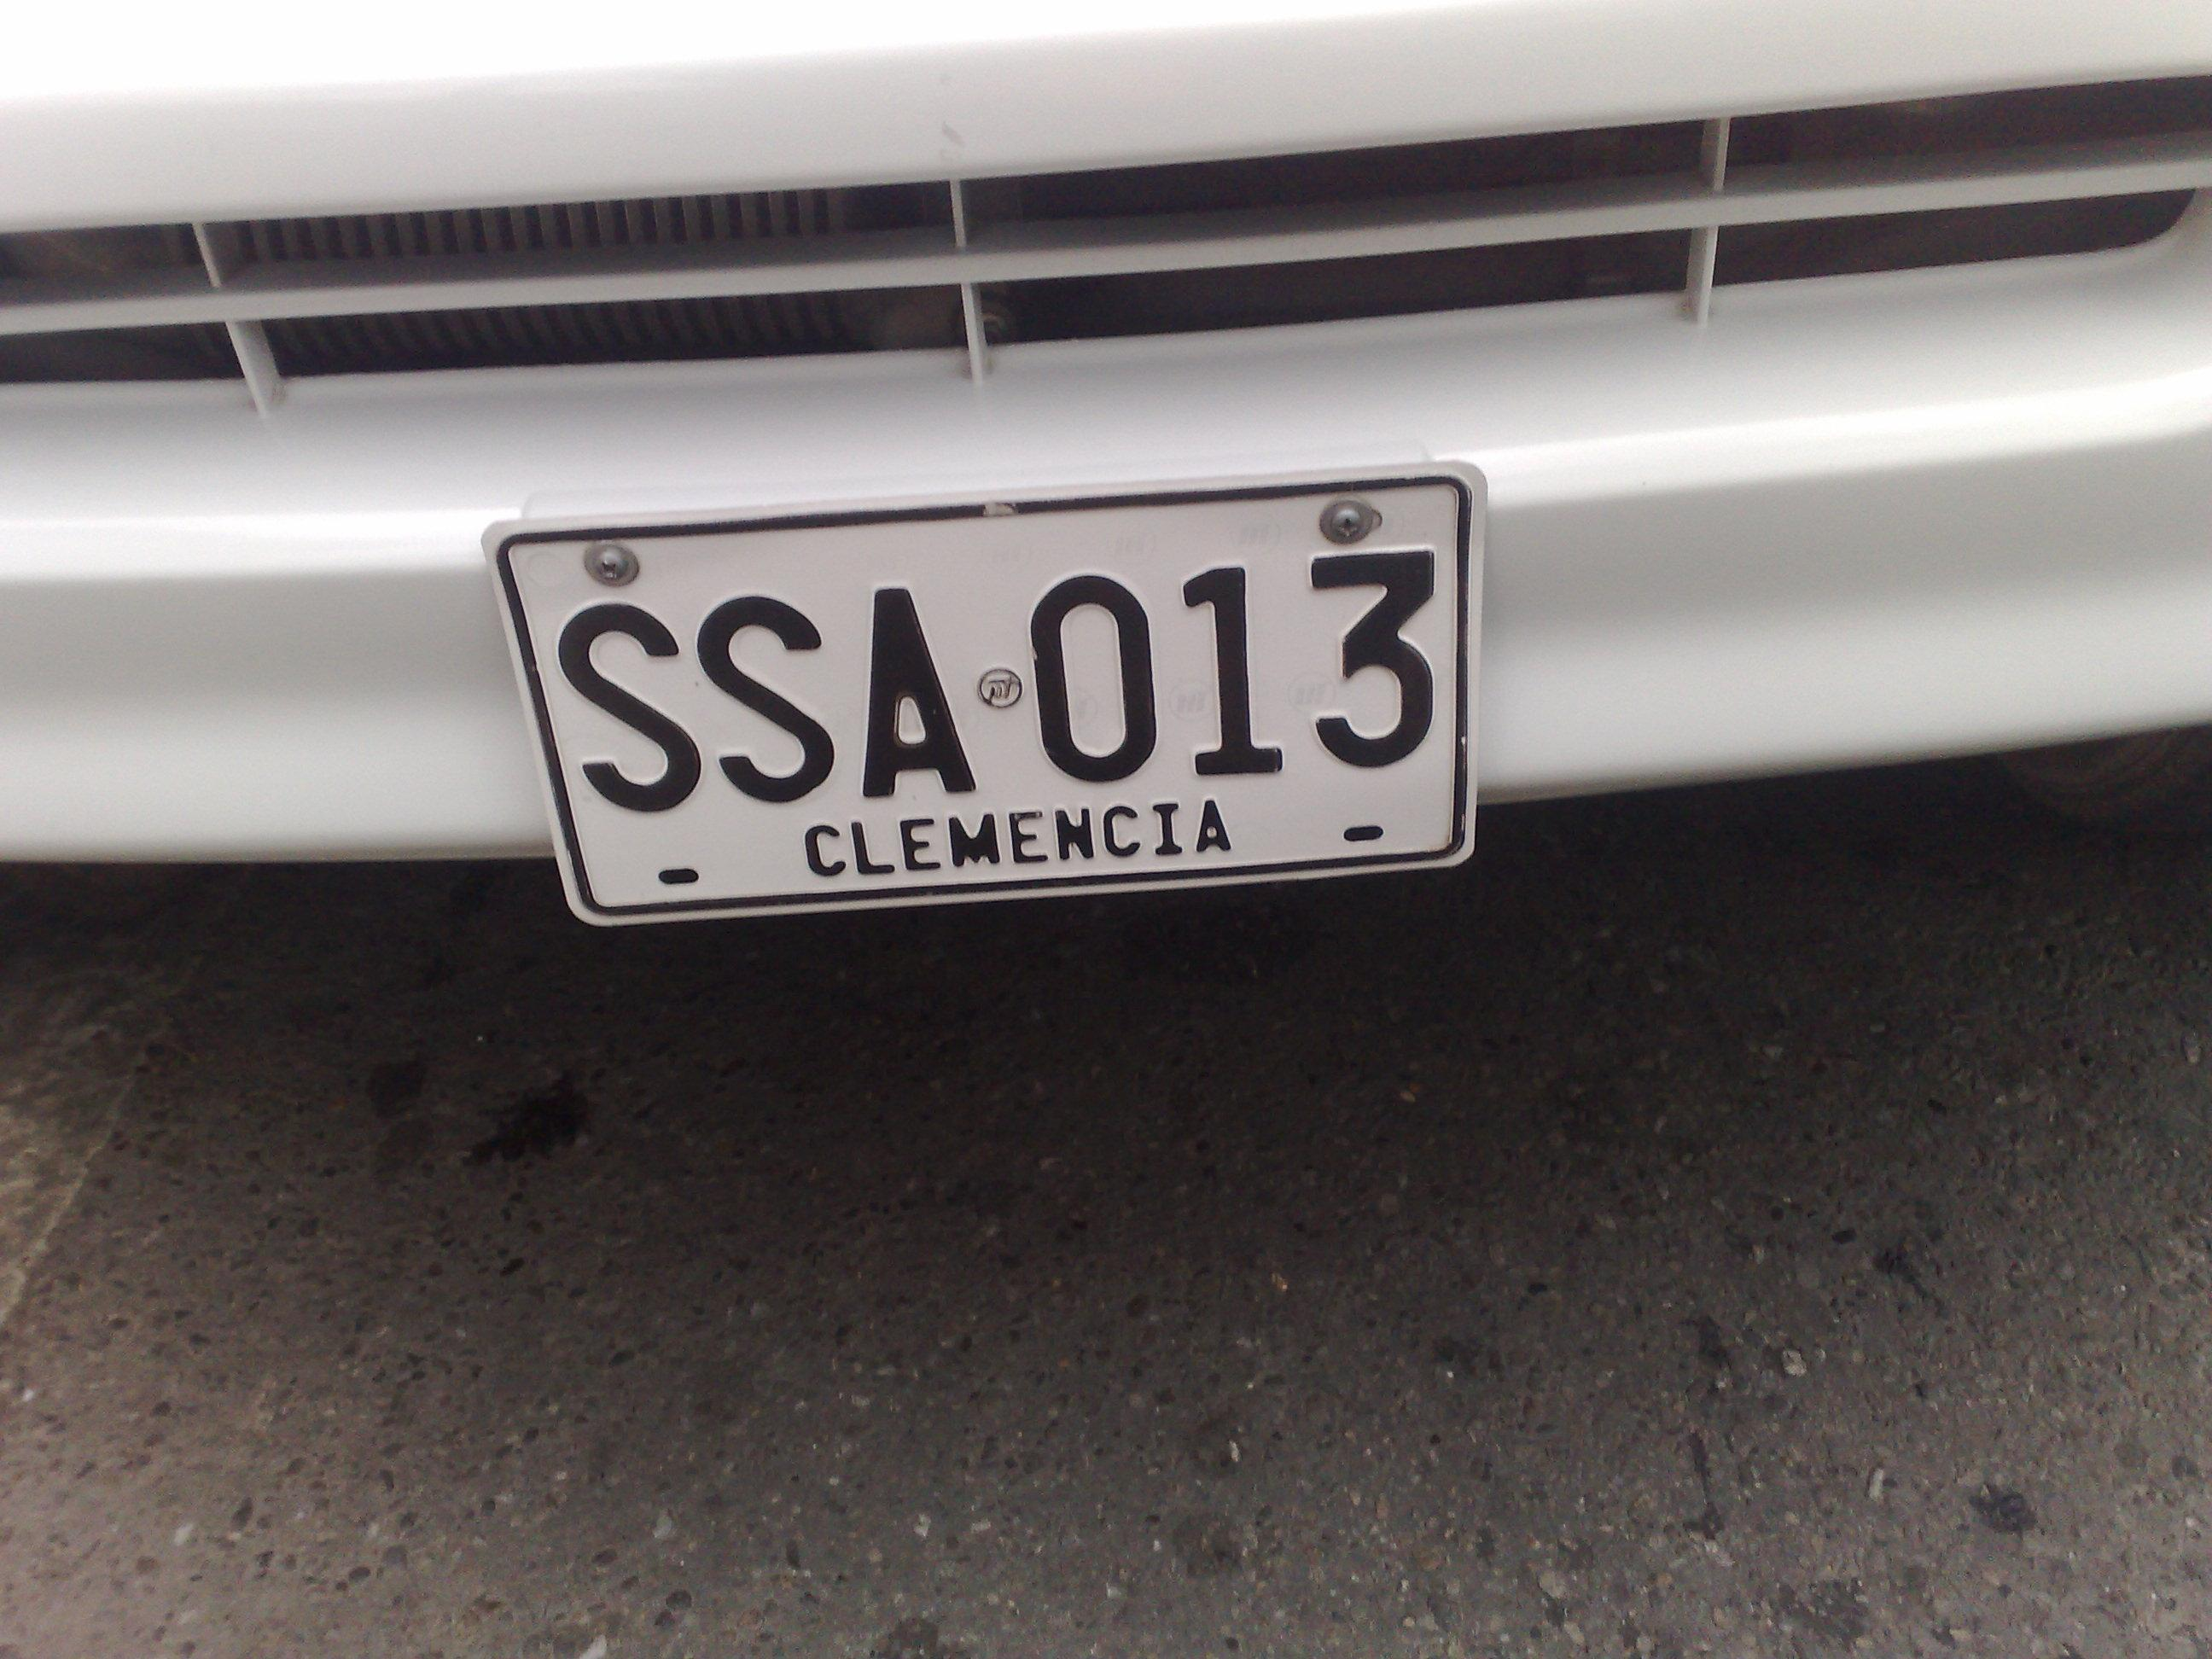placas: (472, 444, 1493, 935)
